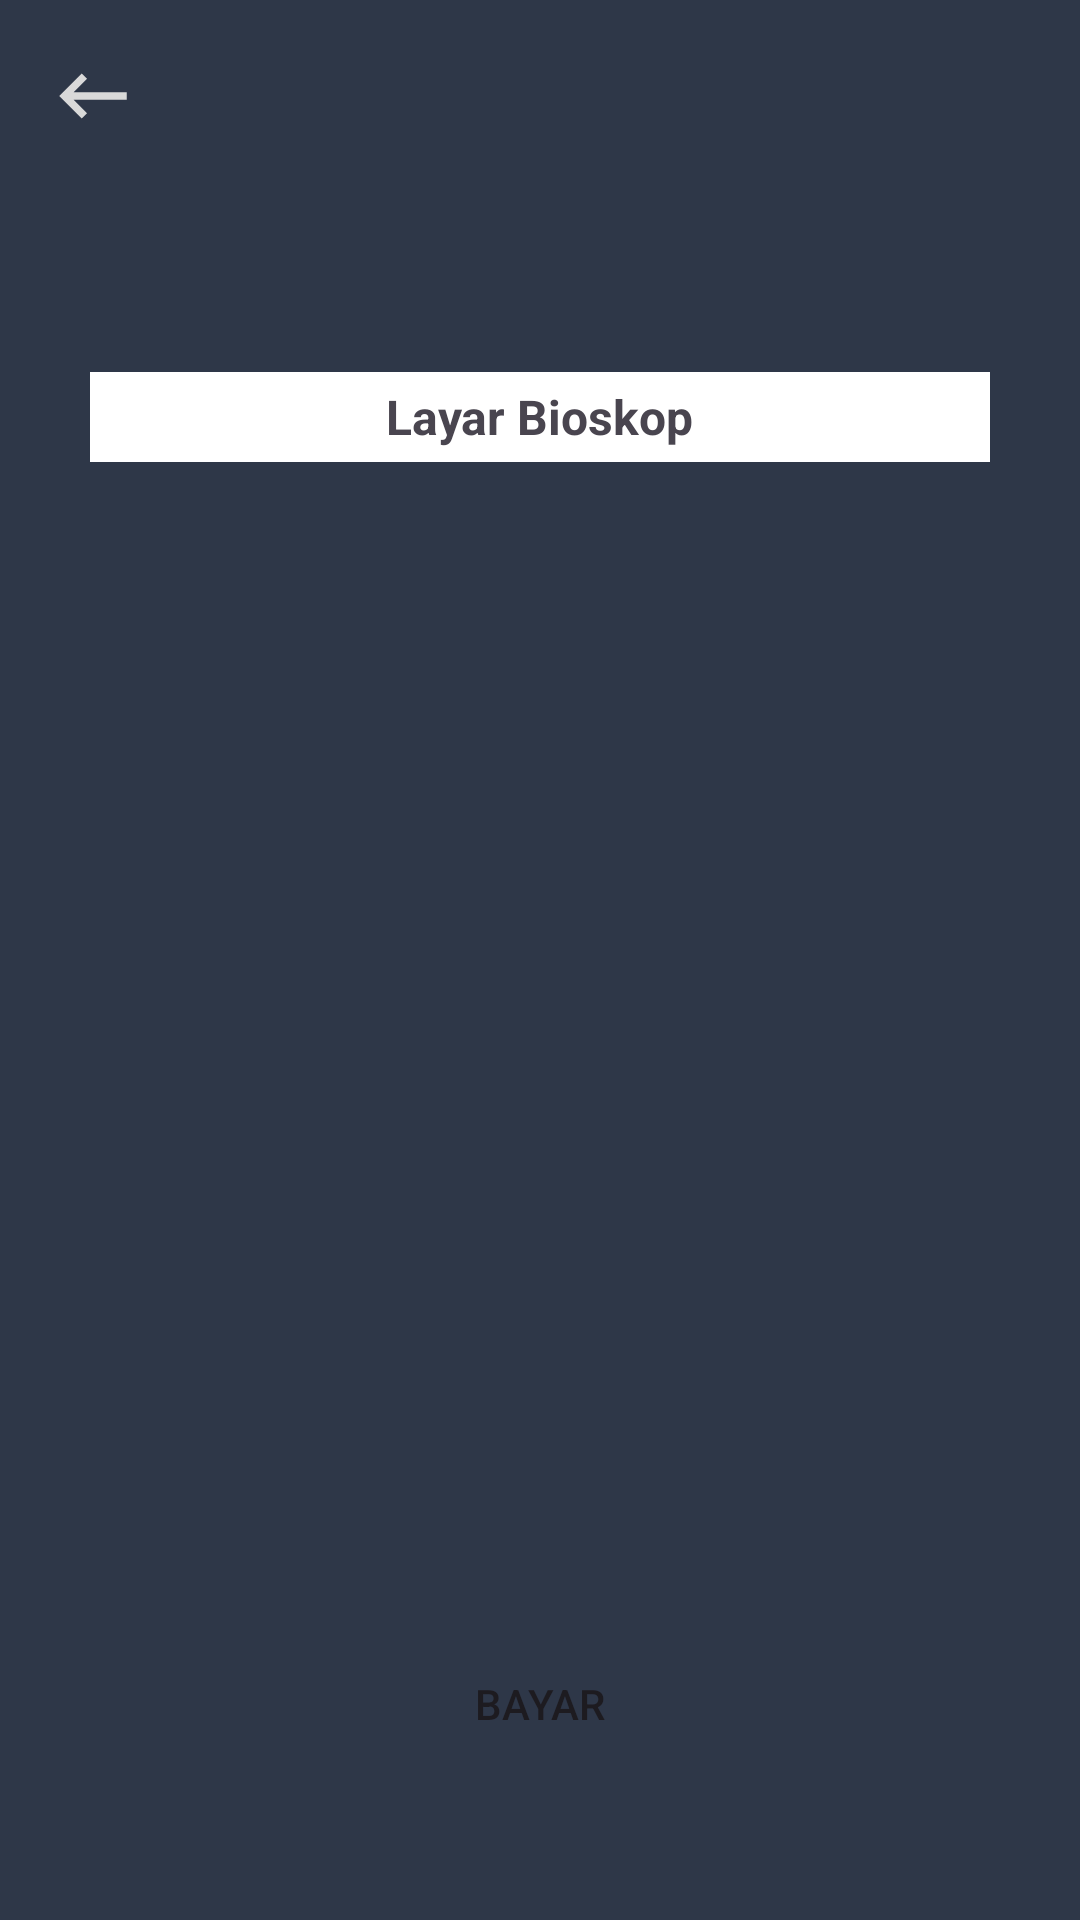

Icons on this 1080 x 1920 Android screen, each with the point to tap as point (x, y):
keyboard backspace: point (93, 96)
